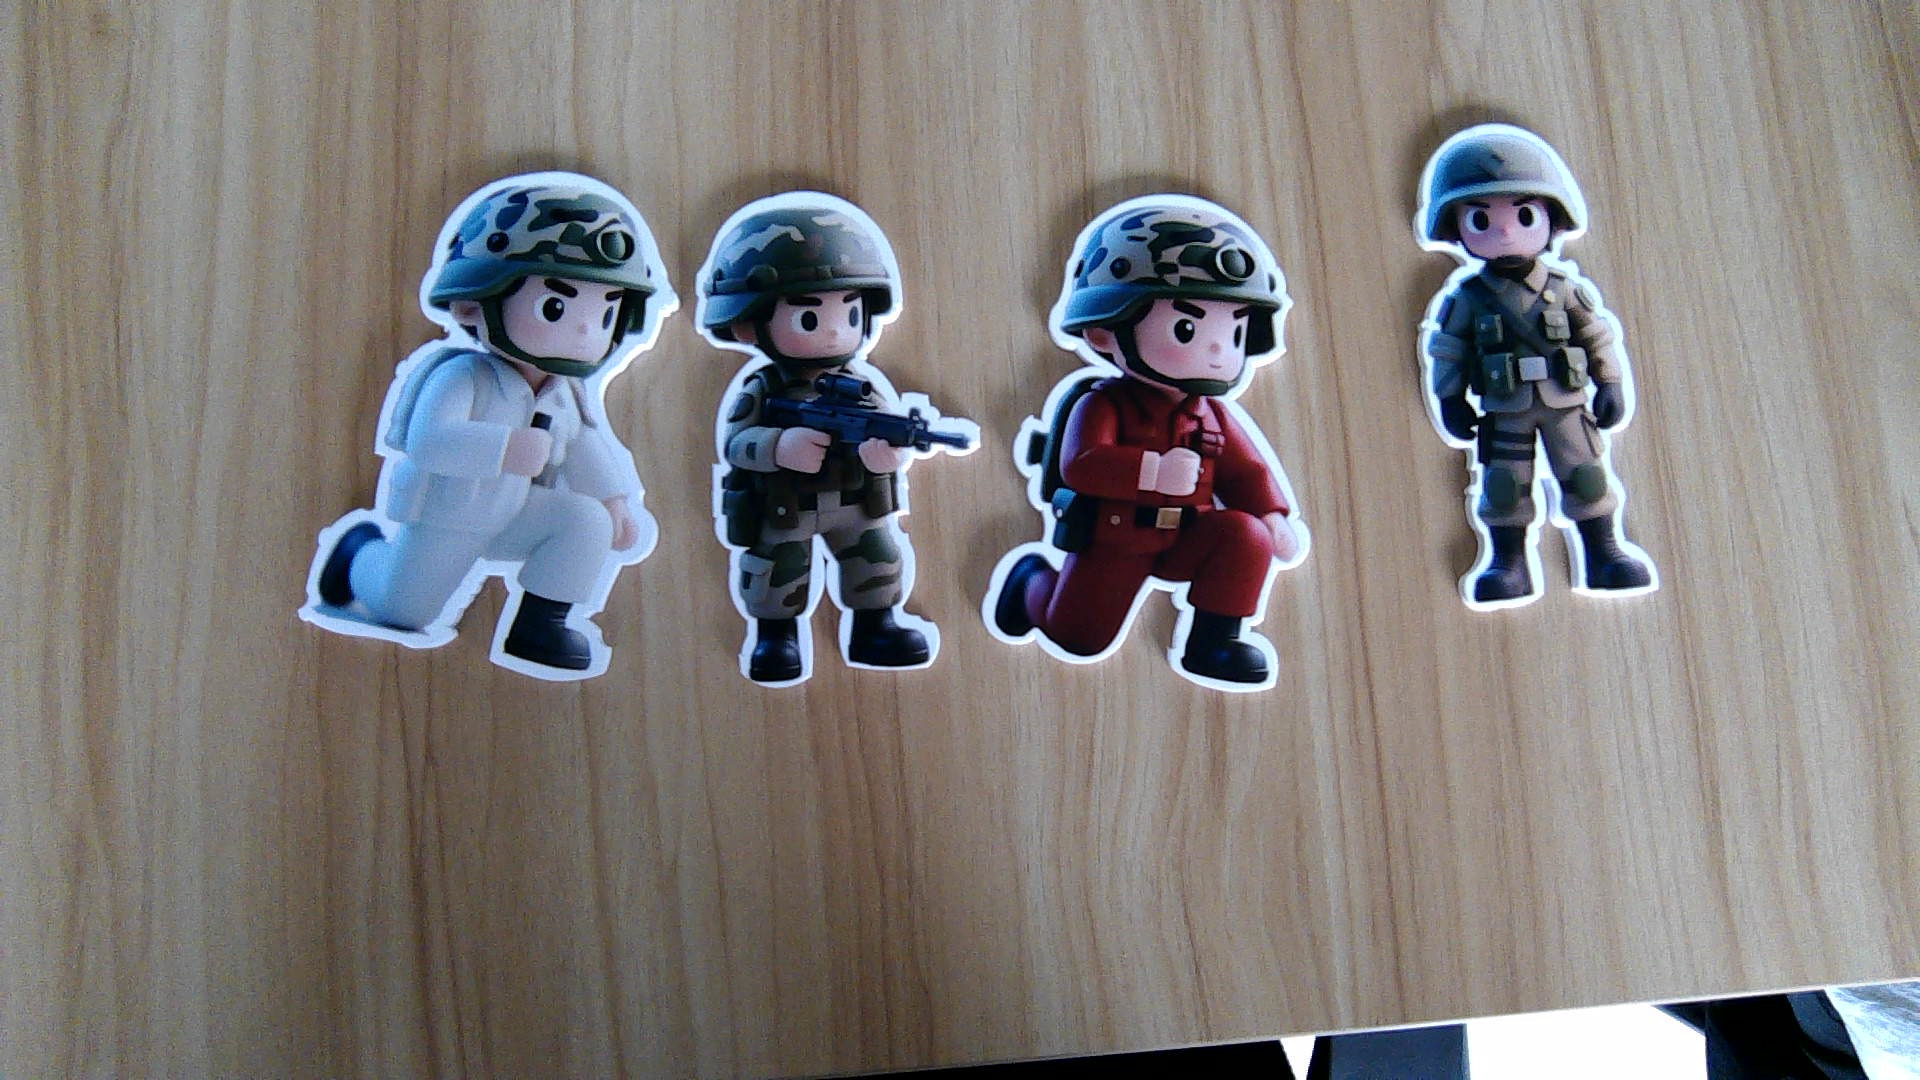人质: (290, 363, 665, 694)
友军: (1408, 261, 1662, 612), (704, 372, 980, 690)
敌人1: (982, 390, 1316, 696)
